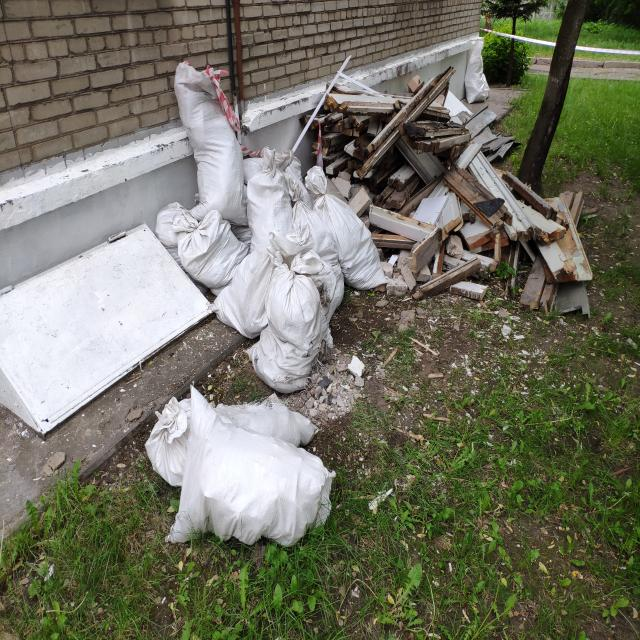entulho: (381, 144, 590, 305), (161, 382, 337, 545), (307, 82, 472, 176), (244, 258, 342, 392), (163, 56, 240, 224), (311, 184, 384, 288), (212, 237, 282, 338), (178, 219, 251, 294), (248, 152, 296, 258), (289, 188, 343, 260)
